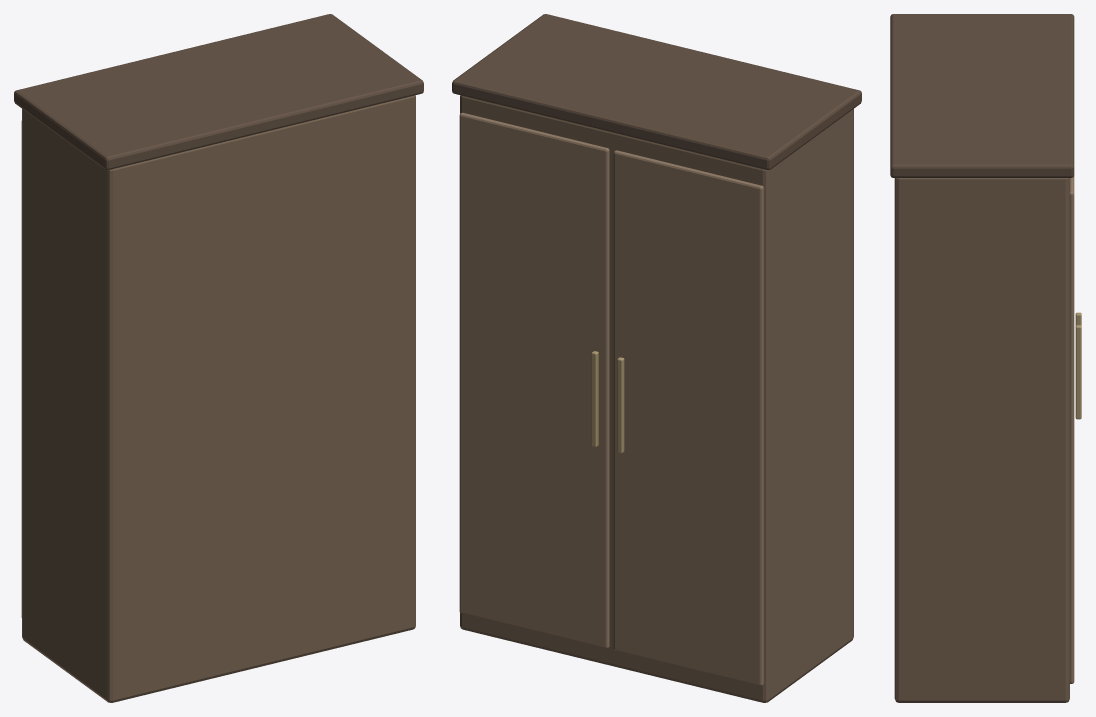
Rendered from wardrobe_1_2x0_6.glb.
3 views of the same model, side by side, from view 1: azimuth 30°, elevation 25°; view 2: azimuth 150°, elevation 25°; view 3: azimuth 270°, elevation 25° (orthographic).
Parts seen in each view (by area): view 1: wardrobe_1_2x0_6; view 2: wardrobe_1_2x0_6; view 3: wardrobe_1_2x0_6.
Boxes of the visible parts, bbox=[...] form: wardrobe_1_2x0_6: bbox=[14, 14, 423, 702]; wardrobe_1_2x0_6: bbox=[452, 14, 861, 702]; wardrobe_1_2x0_6: bbox=[890, 14, 1081, 702].
Bounding box in the file's own units: 1.24 × 2.05 × 0.655.
